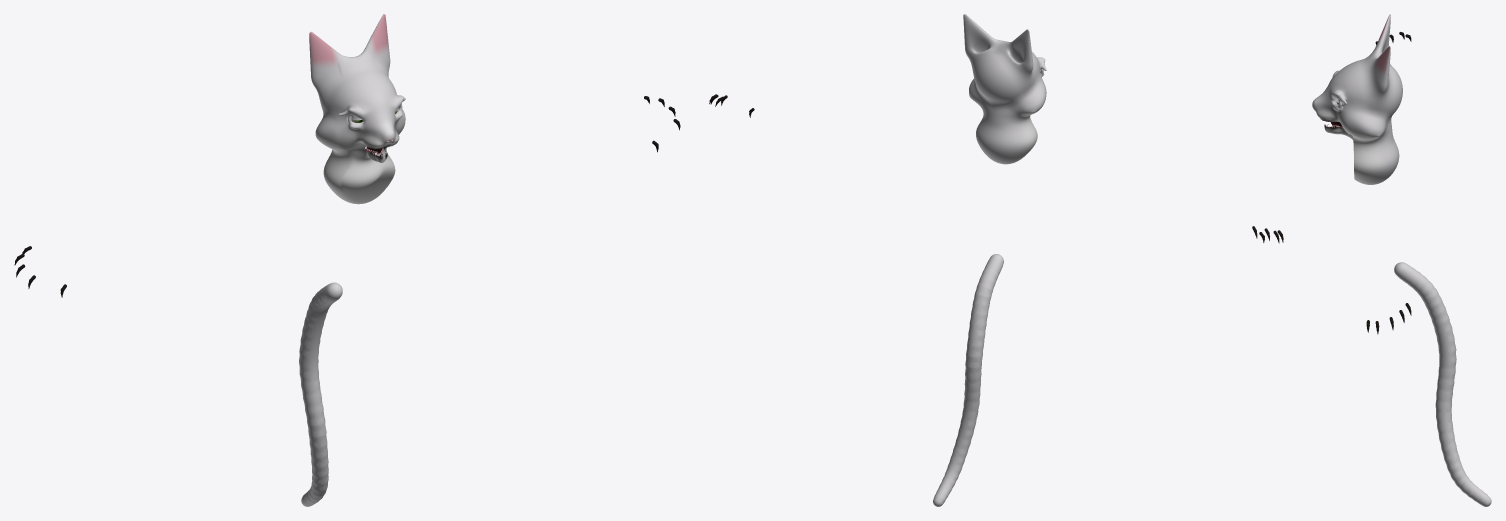
The model's file is male_cat.glb.
3 renders of one model, left to right at view 1: azimuth 30°, elevation 25°; view 2: azimuth 150°, elevation 25°; view 3: azimuth 270°, elevation 25°, orthographic. The views are drawn at different scales.
Parts seen in each view (by area): view 1: AnimalHead, AnimalTail; view 2: AnimalHead, AnimalTail; view 3: AnimalHead, AnimalTail.
Part boxes in pixels (x1,y1,x2,y2): AnimalHead: [309, 14, 405, 204]; AnimalTail: [299, 282, 342, 506]; AnimalHead: [963, 14, 1046, 164]; AnimalTail: [933, 254, 1003, 506]; AnimalHead: [1312, 14, 1402, 184]; AnimalTail: [1394, 262, 1491, 506].
Size of the model in its own units: 1.94 by 1.48 by 0.5114.
